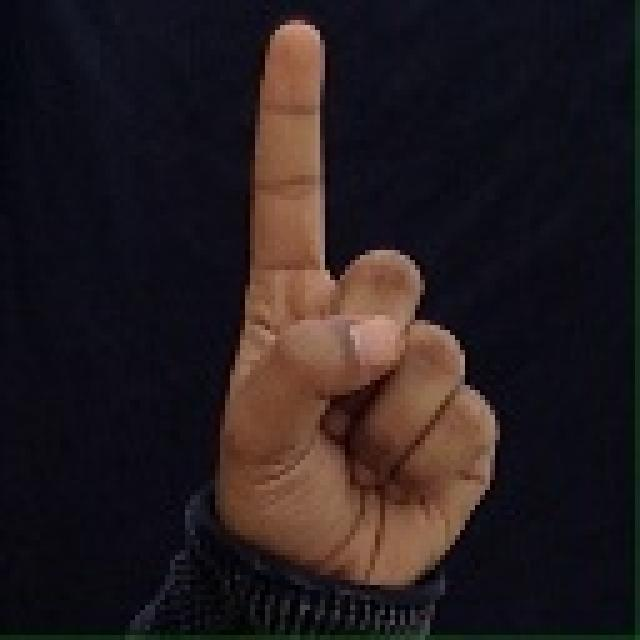Numeric-1: (217, 18, 498, 580)
